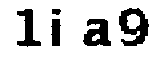1: (11, 6, 43, 51)
9: (116, 5, 150, 50)
a: (84, 17, 113, 51)
i: (48, 6, 67, 53)
